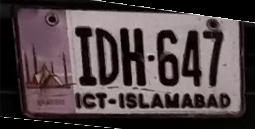4: (180, 27, 203, 91)
6: (154, 27, 182, 89)
7: (201, 27, 227, 91)
D: (94, 24, 120, 87)
H: (119, 25, 148, 90)
I: (72, 25, 97, 88)
